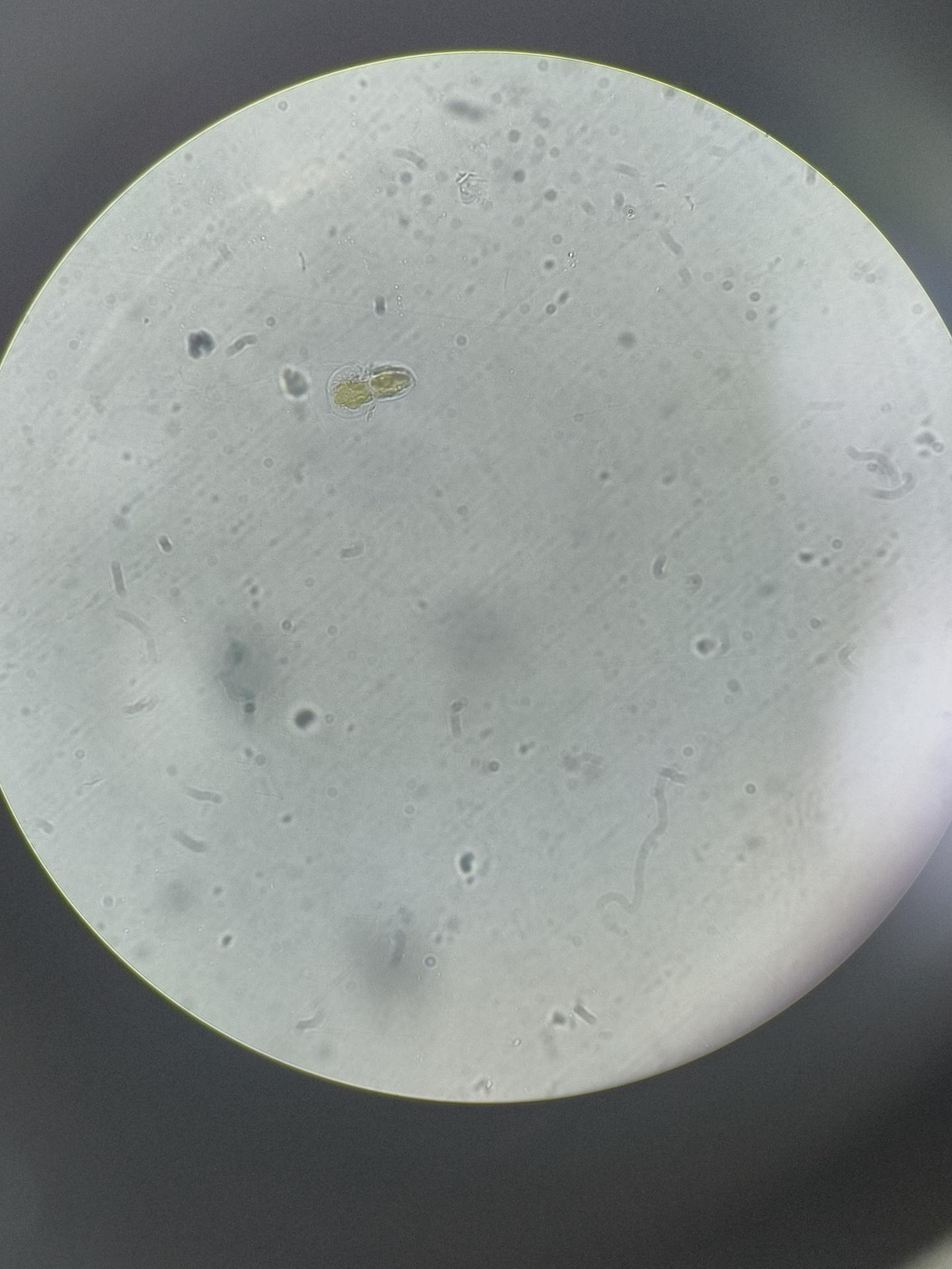Euglena: (324, 352, 427, 432)
